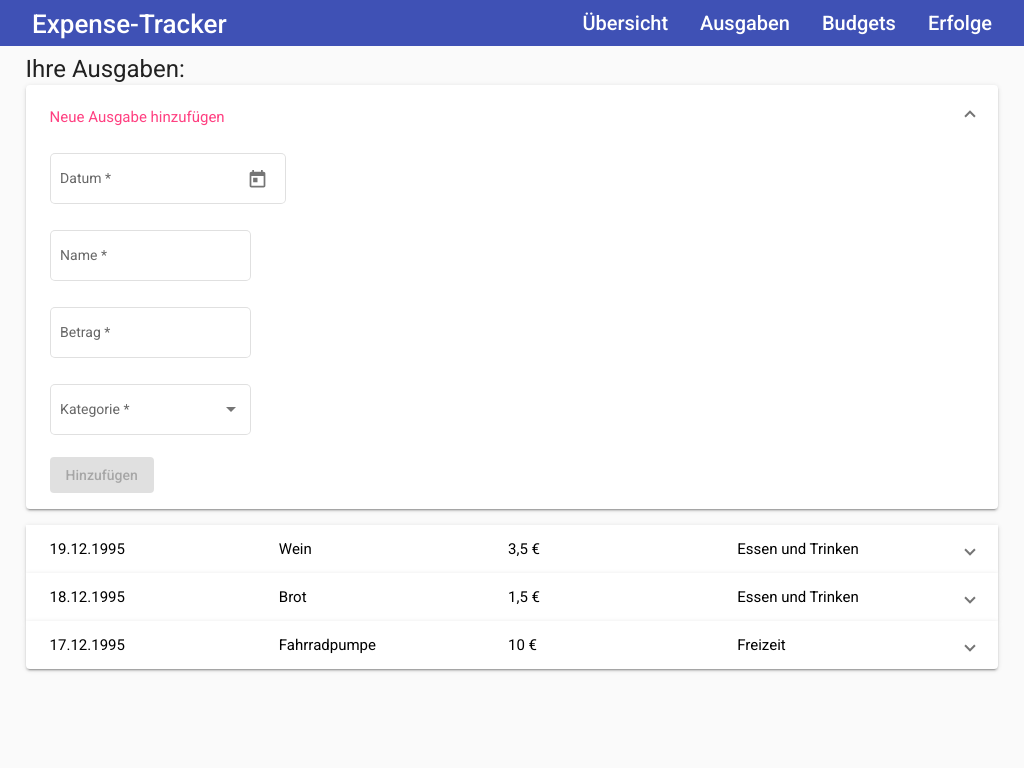
Test: Ausgaben E2E Test › should not update an existing expense with a negative "betrag" value
This screenshot has width=1024, height=768.
Click the button "19.12.1995 Wein 3,5 € Essen und Trinken" at (513, 549), box x1=50 y1=539 x2=975 y2=559
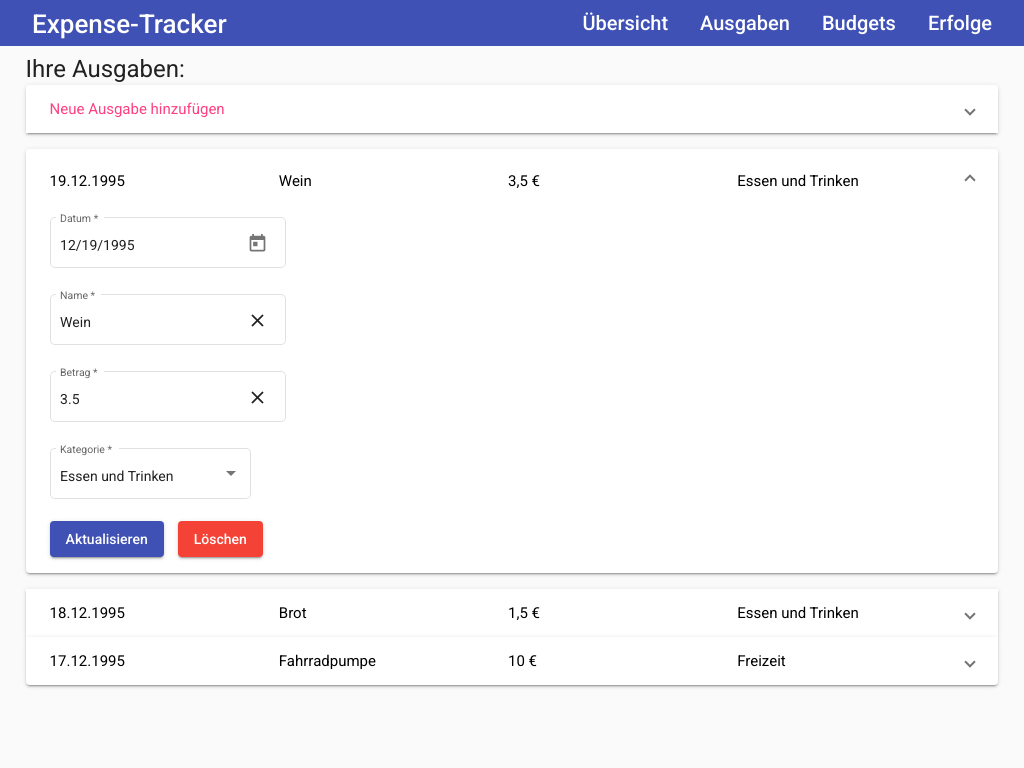
Replace the text in the number field labelled "Betrag *" with "-30" at (150, 400), box x1=60 y1=392 x2=240 y2=408
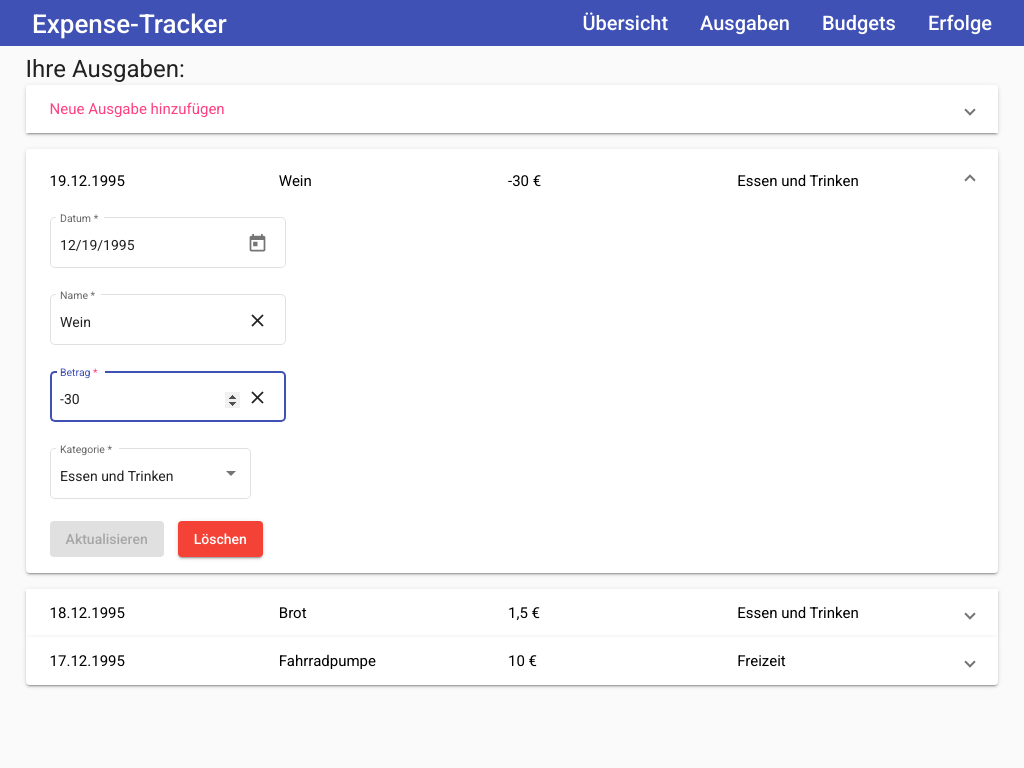
Now the submit button is disabled, box x1=50 y1=521 x2=164 y2=557
